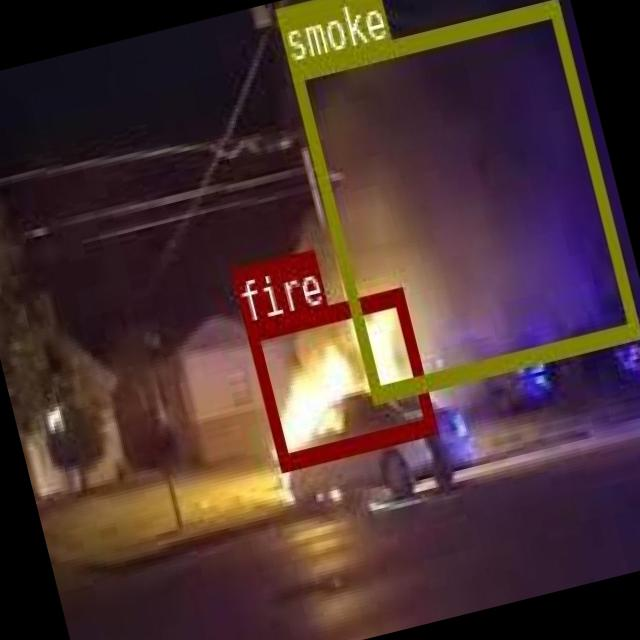fire: (243, 286, 435, 469)
smoke: (288, 0, 639, 399)
